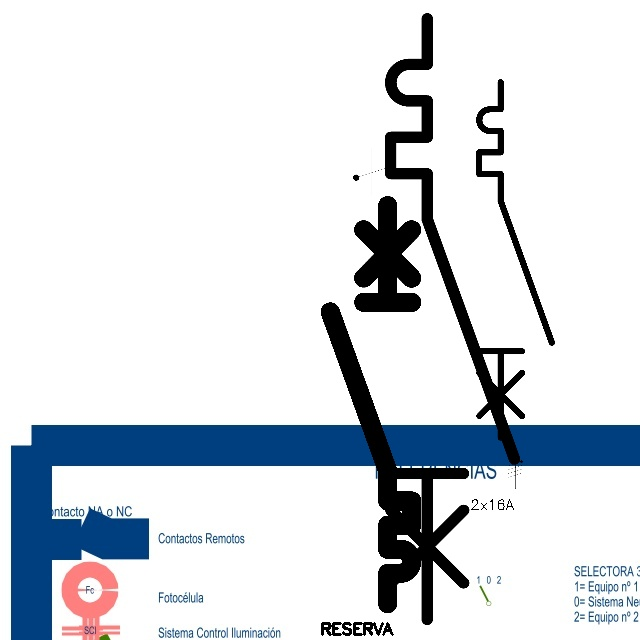interruptor_termomagnetico: (375, 3, 529, 634), (320, 195, 422, 613), (470, 73, 561, 447)
